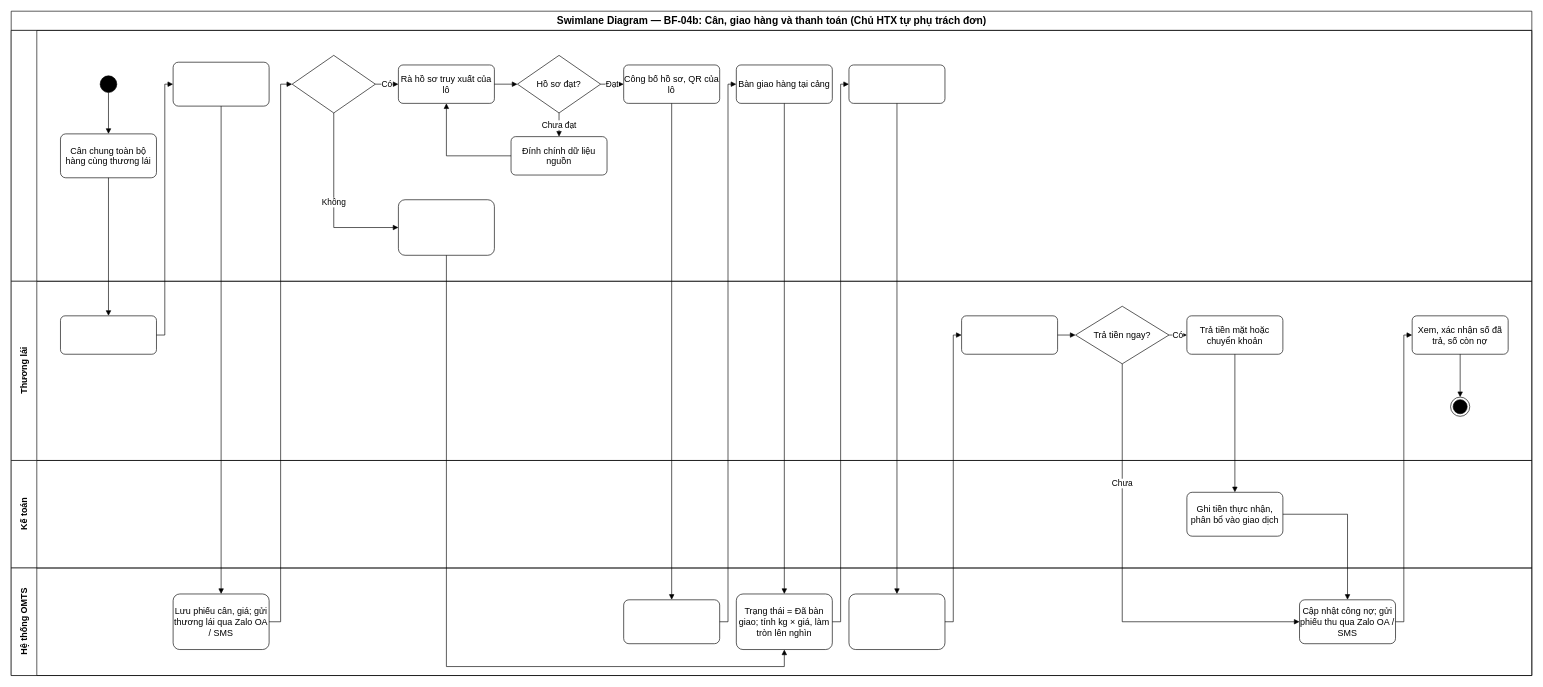
The diagram is 1543 pixels wide and 687 high, and some of its shapes have lost their labels. The box of each missing label's shape, as (x1, y1, x2, y2) in pixels:
Bàn giao trên thiết bị; rà, công bố QR khi có mạng: (398, 199, 494, 255)
Chủ HTX: (11, 30, 1532, 281)
Cảng có mạng?: (292, 55, 375, 113)
Lưu bản công bố; QR trỏ bản hiện hành: (623, 599, 720, 644)
Thống nhất giá thị trường với thương lái: (172, 62, 269, 106)
Xem, xác nhận số tiền: (961, 315, 1058, 354)
Xác nhận số cân: (60, 315, 156, 354)
Xác nhận số tiền cuối: (848, 64, 945, 103)
Đơn = Đã chốt bán; tạo biên nhận, VietQR; gửi thương lái: (848, 593, 945, 650)
